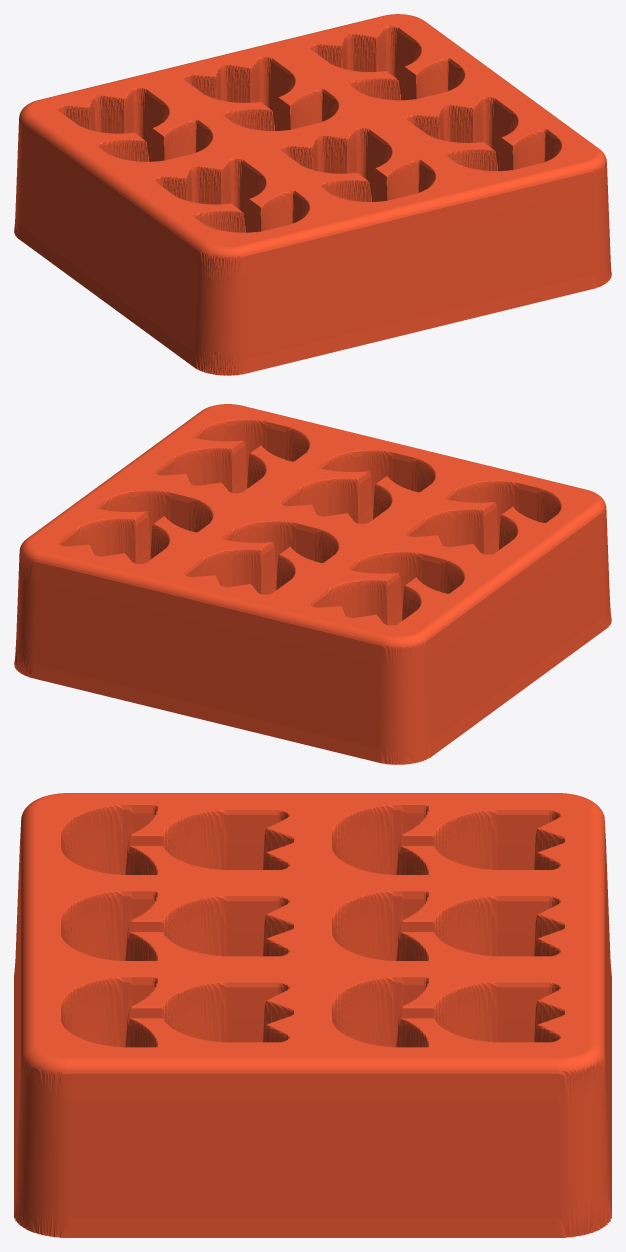
Rendered from mold.glb.
The picture shows the model from 3 angles, top to bottom: view 1: azimuth 30°, elevation 25°; view 2: azimuth 150°, elevation 25°; view 3: azimuth 270°, elevation 25°; orthographic projection. The views are drawn at different scales.
Visible parts, largest first — view 1: geometry_0; view 2: geometry_0; view 3: geometry_0.
Part boxes in pixels (x1,y1,x2,y2): geometry_0: [14, 14, 611, 375]; geometry_0: [14, 404, 611, 764]; geometry_0: [14, 793, 611, 1237].
Size of the model in its own units: 0.111 by 0.0314 by 0.0996.
